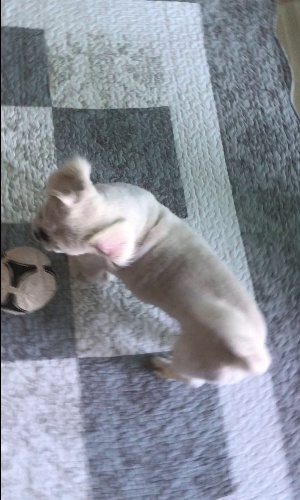ddubi: (28, 151, 276, 395)
